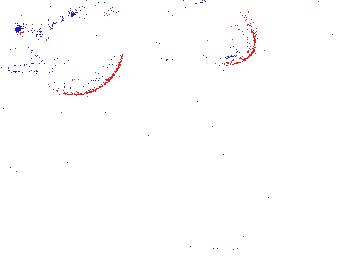moon jellyfish: (31, 4, 129, 96), (124, 4, 225, 62), (172, 1, 257, 67)
